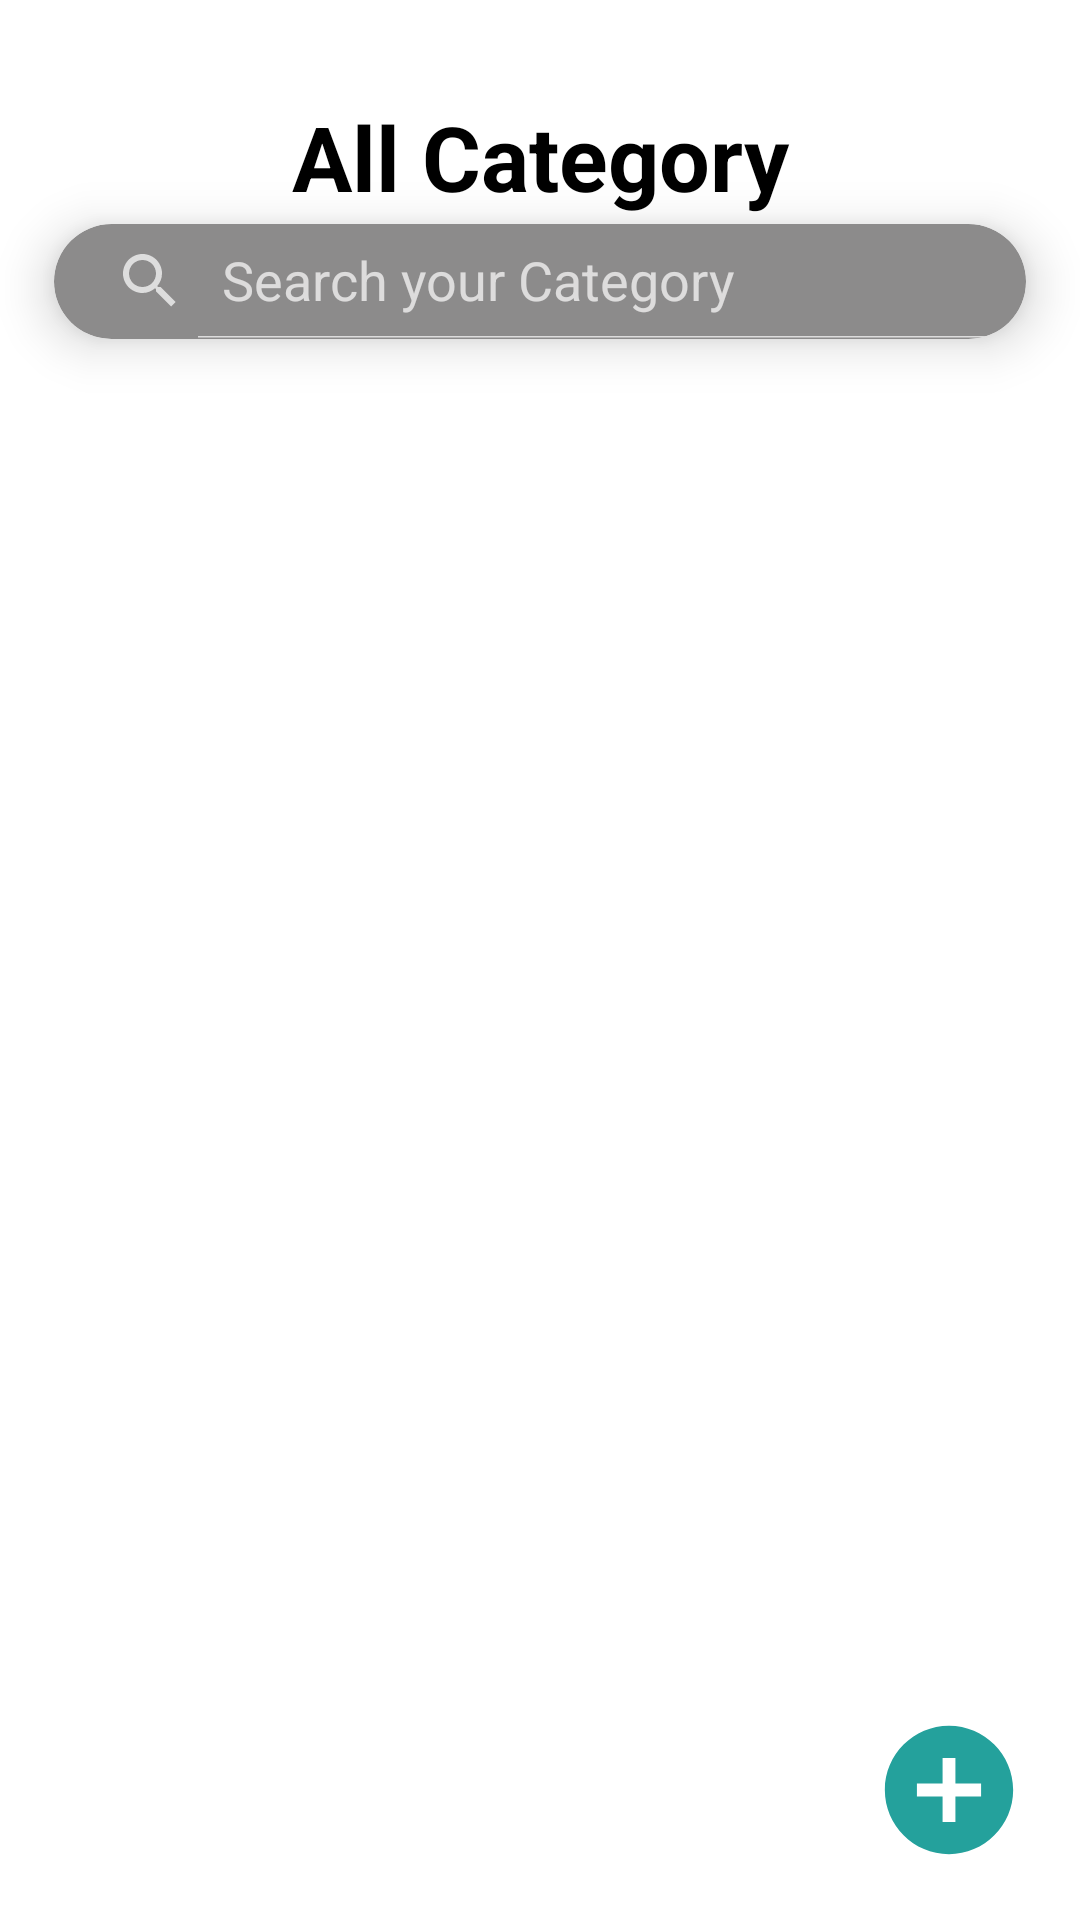

Icons on this 1080x1920 Android screen, each with its box as (x1, y1, x2, y2):
add: (884, 1725, 1014, 1855)
